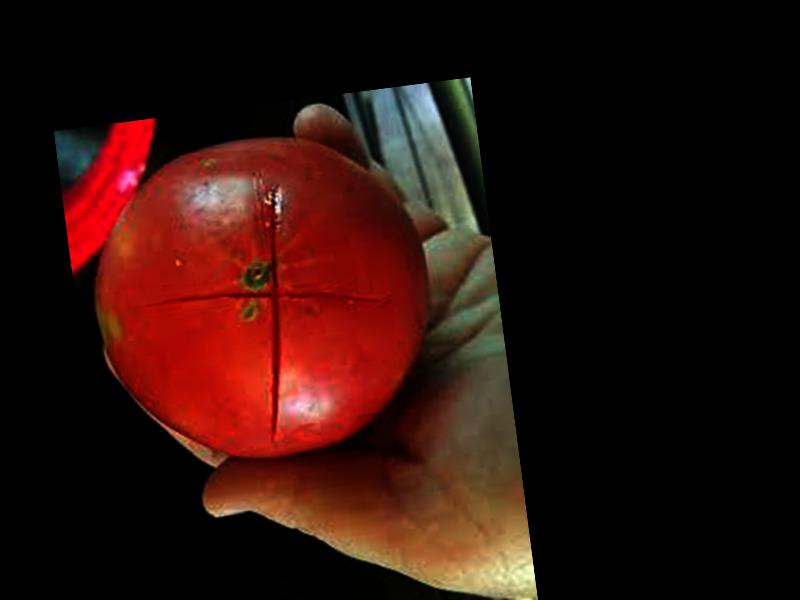Tomato: (77, 115, 449, 480)
